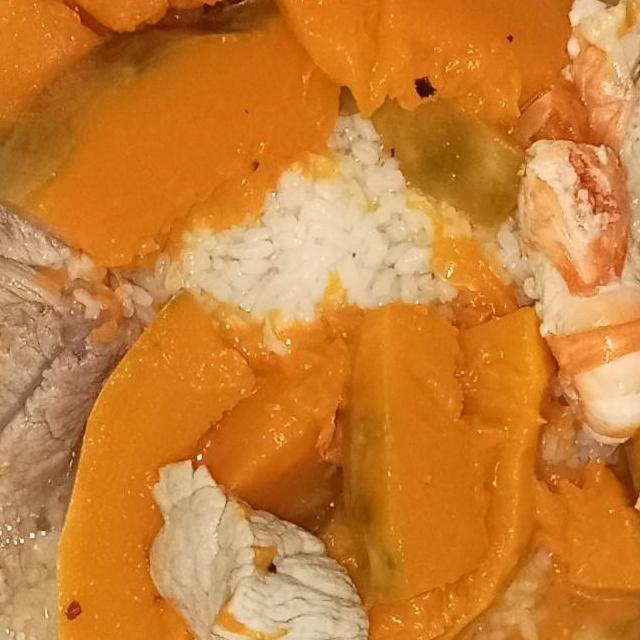com: (147, 100, 493, 368)
thit heo: (0, 145, 159, 617), (140, 452, 376, 640)
tom: (490, 133, 640, 467), (555, 0, 640, 350)
